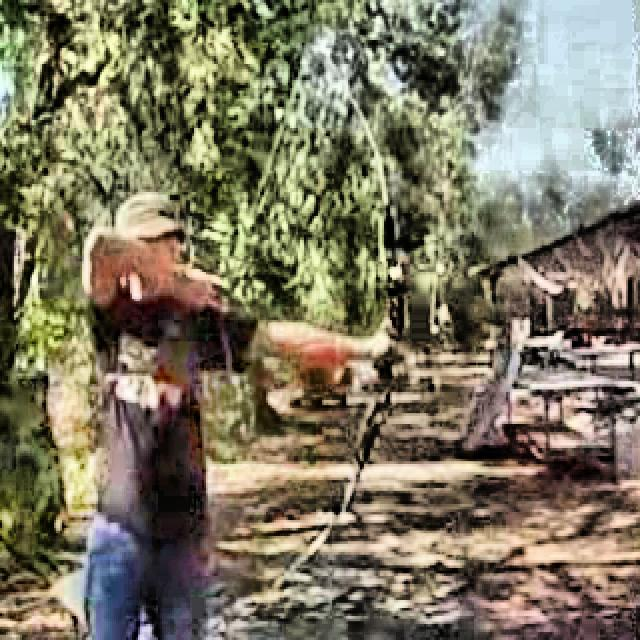I: (56, 151, 387, 640)
